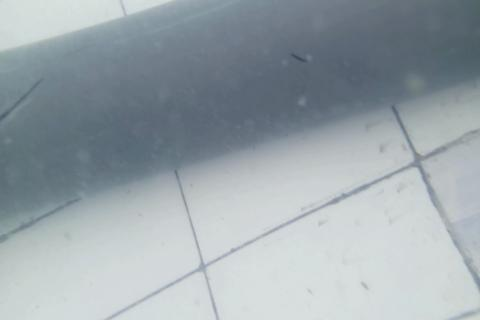keretakan: (0, 76, 45, 124), (291, 50, 308, 66)
